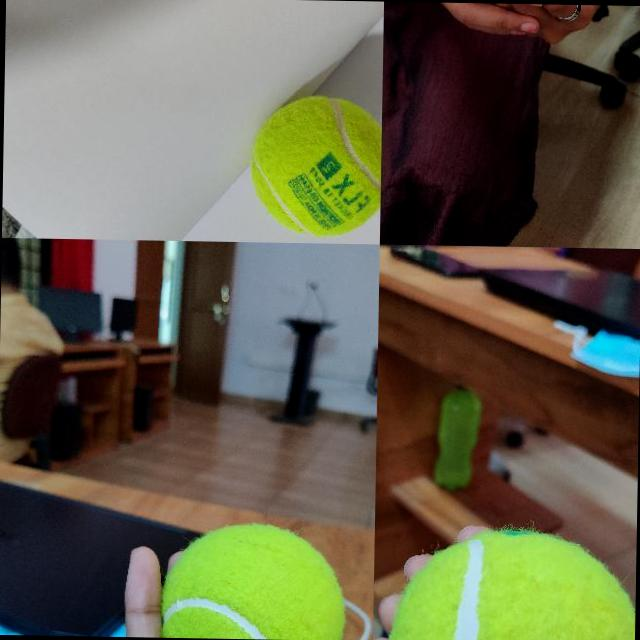Tennis Ball: (388, 527, 636, 640), (162, 522, 346, 640), (246, 93, 382, 238)
